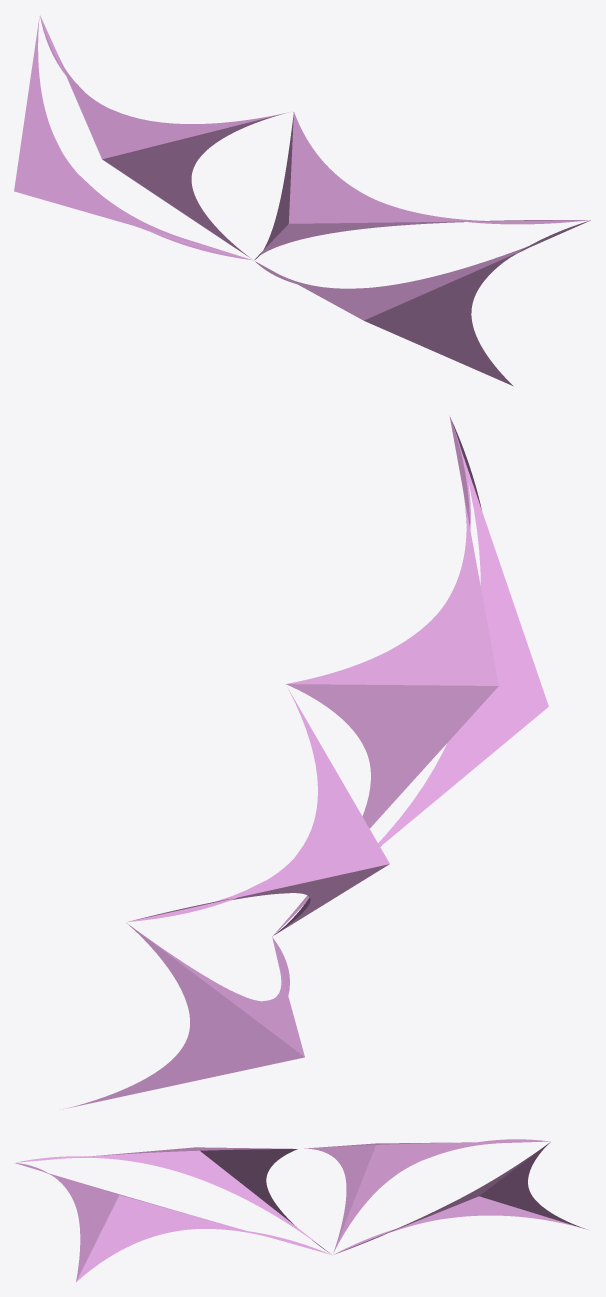
The model's file is TYPE21-5.glb.
The picture shows the model from 3 angles, top to bottom: view 1: azimuth 30°, elevation 25°; view 2: azimuth 150°, elevation 25°; view 3: azimuth 270°, elevation 25°; orthographic projection. The views are drawn at different scales.
Visible parts, largest first — view 1: TYPE21-5 (×8); view 2: TYPE21-5 (×7); view 3: TYPE21-5 (×10).
Part boxes in pixels (x1,y1,x2,y2): TYPE21-5 (×8): (14,16,590,386); TYPE21-5 (×7): (63,420,548,1109); TYPE21-5 (×10): (15,1139,585,1281).
Size of the model in its own units: 3.29 by 2.56 by 10.28.
